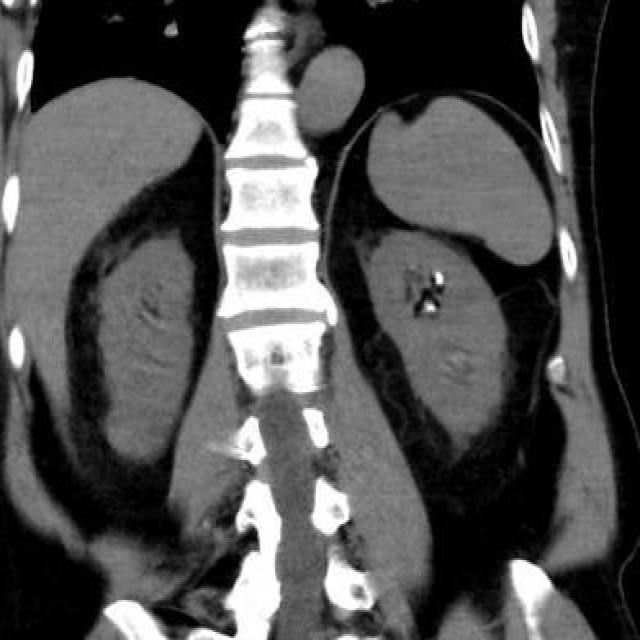Tas_Var: (423, 301, 440, 317), (436, 269, 444, 287)
